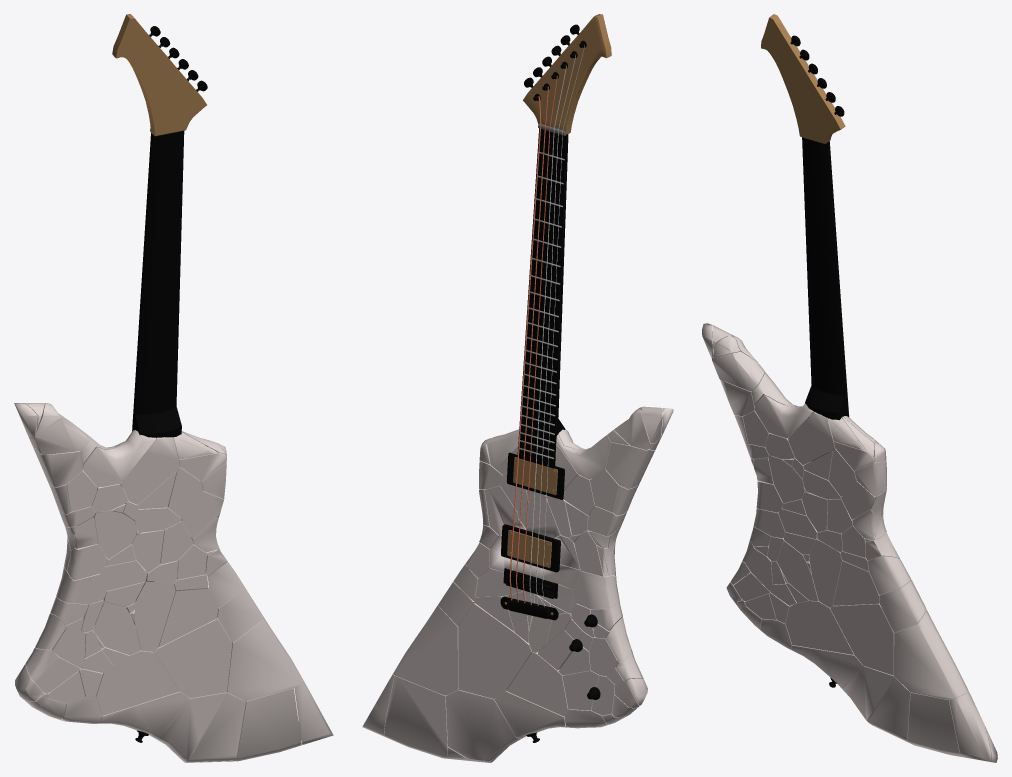
Rendered from BROKENGUITAR.fbx.
3 views of the same model, side by side, from view 1: azimuth 30°, elevation 25°; view 2: azimuth 150°, elevation 25°; view 3: azimuth 330°, elevation 25° (orthographic). The views are drawn at different scales.
Parts seen in each view (by area): view 1: Nut.001, Body_James_Hetfield_cell.074, Body_James_Hetfield_cell.061, Body_James_Hetfield_cell.044, Body_James_Hetfield_cell.048, Body_James_Hetfield_cell.012, Body_James_Hetfield_cell.001, Body_James_Hetfield_cell.004, Body_James_Hetfield_cell.070, Body_James_Hetfield_cell.052, Body_James_Hetfield_cell.069, Body_James_Hetfield_cell.065 (+33 smaller); view 2: Nut.001, BezierCurve, Body_James_Hetfield_cell.074, Body_James_Hetfield_cell.044, Body_James_Hetfield_cell.082, Body_James_Hetfield_cell.061, Body_James_Hetfield_cell.048, Plane, Body_James_Hetfield_cell.069, Plane.004, Body_James_Hetfield_cell.090, Body_James_Hetfield_cell.010 (+29 smaller); view 3: Nut.001, Body_James_Hetfield_cell.061, Body_James_Hetfield_cell.074, Body_James_Hetfield_cell.044, Body_James_Hetfield_cell.048, Body_James_Hetfield_cell.028, Body_James_Hetfield_cell.012, Body_James_Hetfield_cell.004, Body_James_Hetfield_cell.076, Body_James_Hetfield_cell.052, Body_James_Hetfield_cell.001, Body_James_Hetfield_cell.070 (+27 smaller).
Boxes of the visible parts, box(x1,y1,x2,y2) form: Nut.001: box(112, 14, 207, 437); Body_James_Hetfield_cell.074: box(154, 617, 232, 698); Body_James_Hetfield_cell.061: box(227, 611, 302, 701); Body_James_Hetfield_cell.044: box(231, 688, 301, 761); Body_James_Hetfield_cell.048: box(96, 650, 179, 715); Body_James_Hetfield_cell.012: box(184, 693, 245, 762); Body_James_Hetfield_cell.001: box(153, 692, 228, 759); Body_James_Hetfield_cell.004: box(122, 437, 179, 504); Body_James_Hetfield_cell.070: box(83, 430, 155, 487); Body_James_Hetfield_cell.052: box(134, 581, 175, 651); Body_James_Hetfield_cell.069: box(97, 692, 189, 737); Body_James_Hetfield_cell.065: box(158, 588, 217, 647); Nut.001: box(517, 14, 611, 496); BezierCurve: box(509, 45, 584, 607); Body_James_Hetfield_cell.074: box(458, 603, 532, 698); Body_James_Hetfield_cell.044: box(384, 676, 449, 758); Body_James_Hetfield_cell.082: box(445, 690, 518, 761); Body_James_Hetfield_cell.061: box(393, 605, 458, 695); Body_James_Hetfield_cell.048: box(506, 651, 568, 716); Plane: box(501, 524, 560, 572); Body_James_Hetfield_cell.069: box(494, 689, 568, 738); Plane.004: box(506, 452, 564, 499); Body_James_Hetfield_cell.090: box(605, 442, 654, 489); Body_James_Hetfield_cell.010: box(573, 571, 619, 608); Nut.001: box(761, 14, 848, 461); Body_James_Hetfield_cell.061: box(894, 609, 968, 699); Body_James_Hetfield_cell.074: box(830, 603, 894, 675); Body_James_Hetfield_cell.044: box(907, 692, 968, 758); Body_James_Hetfield_cell.048: box(785, 600, 854, 654); Body_James_Hetfield_cell.028: box(949, 691, 991, 761); Body_James_Hetfield_cell.012: box(867, 678, 910, 741); Body_James_Hetfield_cell.004: box(788, 412, 835, 464); Body_James_Hetfield_cell.076: box(879, 580, 926, 632); Body_James_Hetfield_cell.052: box(809, 539, 842, 607); Body_James_Hetfield_cell.001: box(842, 666, 895, 720); Body_James_Hetfield_cell.070: box(754, 395, 813, 438).
Size of the model in its own units: 128 by 303 by 30.33.
